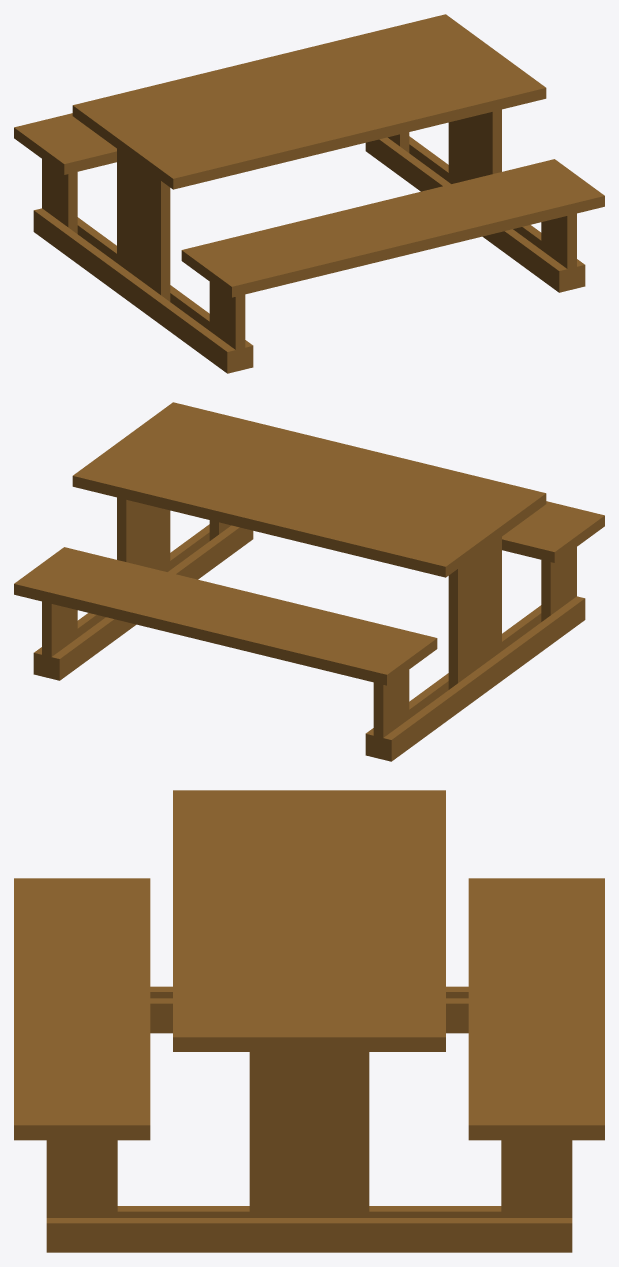
File: Bench_With_Table.fbx
3 renders of one model, top to bottom at view 1: azimuth 30°, elevation 25°; view 2: azimuth 150°, elevation 25°; view 3: azimuth 270°, elevation 25°, orthographic. The views are drawn at different scales.
Visible parts, largest first — view 1: Bench_With_Table; view 2: Bench_With_Table; view 3: Bench_With_Table.
Part boxes in pixels (left/top/right/bottom): Bench_With_Table: left=14, top=14, right=604, bottom=373; Bench_With_Table: left=14, top=402, right=604, bottom=761; Bench_With_Table: left=14, top=790, right=604, bottom=1252.
Bounding box in the file's own units: 180 × 75 × 182.
